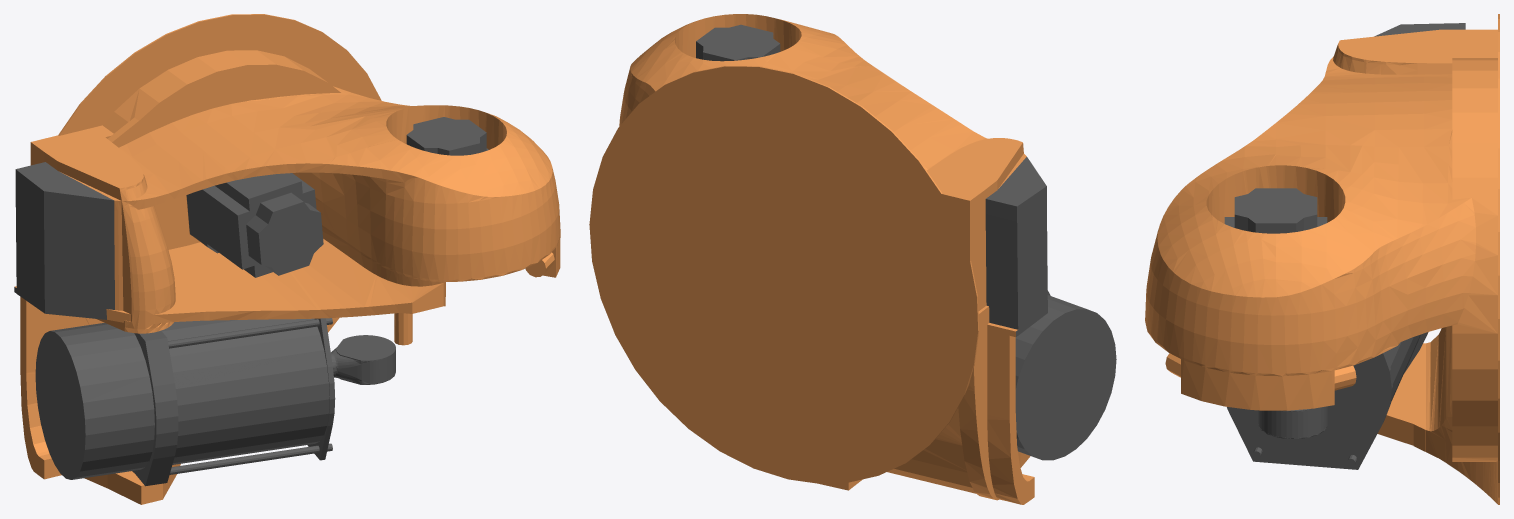
The picture shows the model from 3 angles, left to right: view 1: azimuth 30°, elevation 25°; view 2: azimuth 150°, elevation 25°; view 3: azimuth 270°, elevation 25°; orthographic projection. The views are drawn at different scales.
Parts seen in each view (by area): view 1: /SketchUp/instance_0_037/ID230-mesh/0, /SketchUp/instance_0_042/ID260-mesh/0, /SketchUp/instance_0_019/ID122-mesh/0, /SketchUp/instance_0_002/ID20-mesh/0, /SketchUp/instance_0_044/ID272-mesh/0, /SketchUp/instance_0_027/ID170-mesh/0, /SketchUp/instance_0_026/ID164-mesh/0, /SketchUp/instance_0_008/ID56-mesh/0, /SketchUp/instance_0_021/ID134-mesh/0, /SketchUp/instance_0_023/ID146-mesh/0, /SketchUp/instance_0_017/ID110-mesh/0, /SketchUp/instance_0_014/ID92-mesh/0 (+1 smaller); view 2: /SketchUp/instance_0_042/ID260-mesh/0, /SketchUp/instance_0_002/ID20-mesh/0, /SketchUp/instance_0_037/ID230-mesh/0, /SketchUp/instance_0_044/ID272-mesh/0, /SketchUp/instance_0_023/ID146-mesh/0; view 3: /SketchUp/instance_0_042/ID260-mesh/0, /SketchUp/instance_0_037/ID230-mesh/0, /SketchUp/instance_0_009/ID62-mesh/0, /SketchUp/instance_0_023/ID146-mesh/0, /SketchUp/instance_0_021/ID134-mesh/0, /SketchUp/instance_0_019/ID122-mesh/0, /SketchUp/instance_0_044/ID272-mesh/0, /SketchUp/instance_0_039/ID242-mesh/0.
Part boxes in pixels (<box>): /SketchUp/instance_0_037/ID230-mesh/0: <box>15,105,549,504</box>; /SketchUp/instance_0_042/ID260-mesh/0: <box>26,14,560,427</box>; /SketchUp/instance_0_019/ID122-mesh/0: <box>161,318,329,464</box>; /SketchUp/instance_0_002/ID20-mesh/0: <box>35,322,154,479</box>; /SketchUp/instance_0_044/ID272-mesh/0: <box>14,162,114,319</box>; /SketchUp/instance_0_027/ID170-mesh/0: <box>186,173,316,277</box>; /SketchUp/instance_0_026/ID164-mesh/0: <box>246,192,323,275</box>; /SketchUp/instance_0_008/ID56-mesh/0: <box>132,330,178,486</box>; /SketchUp/instance_0_021/ID134-mesh/0: <box>331,335,395,384</box>; /SketchUp/instance_0_023/ID146-mesh/0: <box>406,117,486,155</box>; /SketchUp/instance_0_017/ID110-mesh/0: <box>168,319,319,348</box>; /SketchUp/instance_0_014/ID92-mesh/0: <box>169,445,319,474</box>; /SketchUp/instance_0_042/ID260-mesh/0: <box>589,22,1022,504</box>; /SketchUp/instance_0_002/ID20-mesh/0: <box>1015,295,1116,460</box>; /SketchUp/instance_0_037/ID230-mesh/0: <box>675,14,1034,504</box>; /SketchUp/instance_0_044/ID272-mesh/0: <box>985,157,1047,336</box>; /SketchUp/instance_0_023/ID146-mesh/0: <box>696,24,780,61</box>; /SketchUp/instance_0_042/ID260-mesh/0: <box>1159,14,1499,504</box>; /SketchUp/instance_0_037/ID230-mesh/0: <box>1145,44,1445,445</box>; /SketchUp/instance_0_009/ID62-mesh/0: <box>1227,352,1392,469</box>; /SketchUp/instance_0_023/ID146-mesh/0: <box>1234,188,1317,233</box>; /SketchUp/instance_0_021/ID134-mesh/0: <box>1258,406,1327,438</box>; /SketchUp/instance_0_019/ID122-mesh/0: <box>1385,334,1420,402</box>; /SketchUp/instance_0_044/ID272-mesh/0: <box>1374,23,1465,36</box>; /SketchUp/instance_0_039/ID242-mesh/0: <box>1334,365,1356,390</box>.
Size of the model in its own units: 1.14 by 0.9193 by 0.664.
